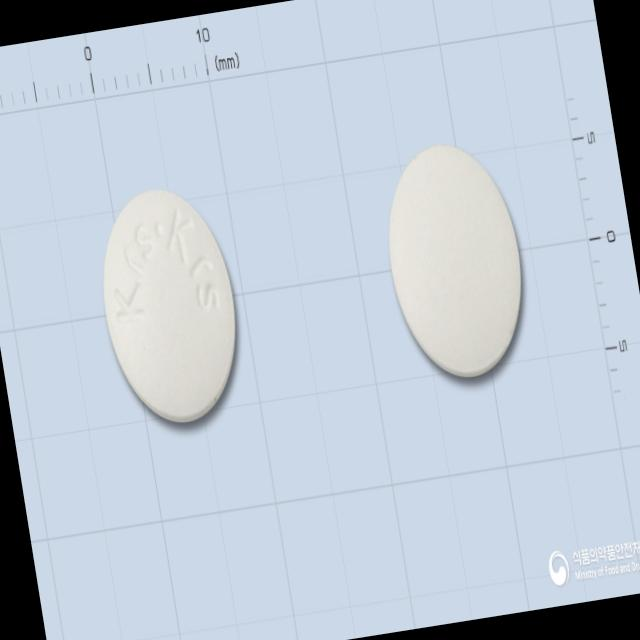Korus Ascorbic Acid: (86, 178, 254, 434)
